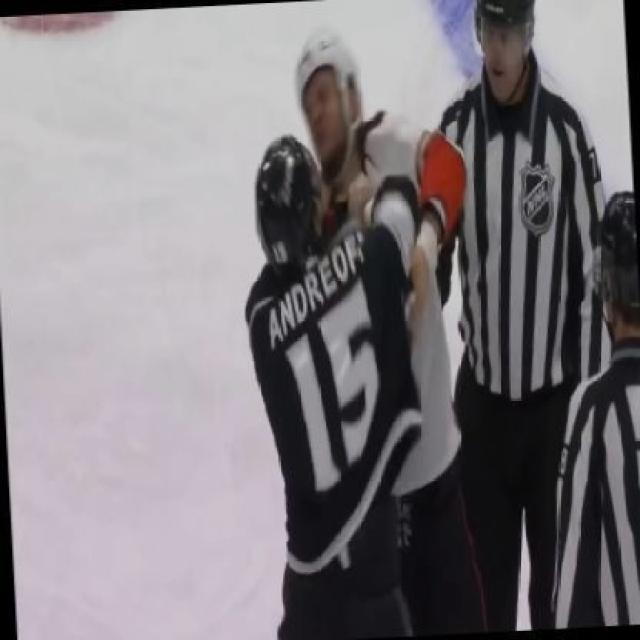fight: (214, 36, 472, 628)
non-fight: (428, 0, 612, 640)
